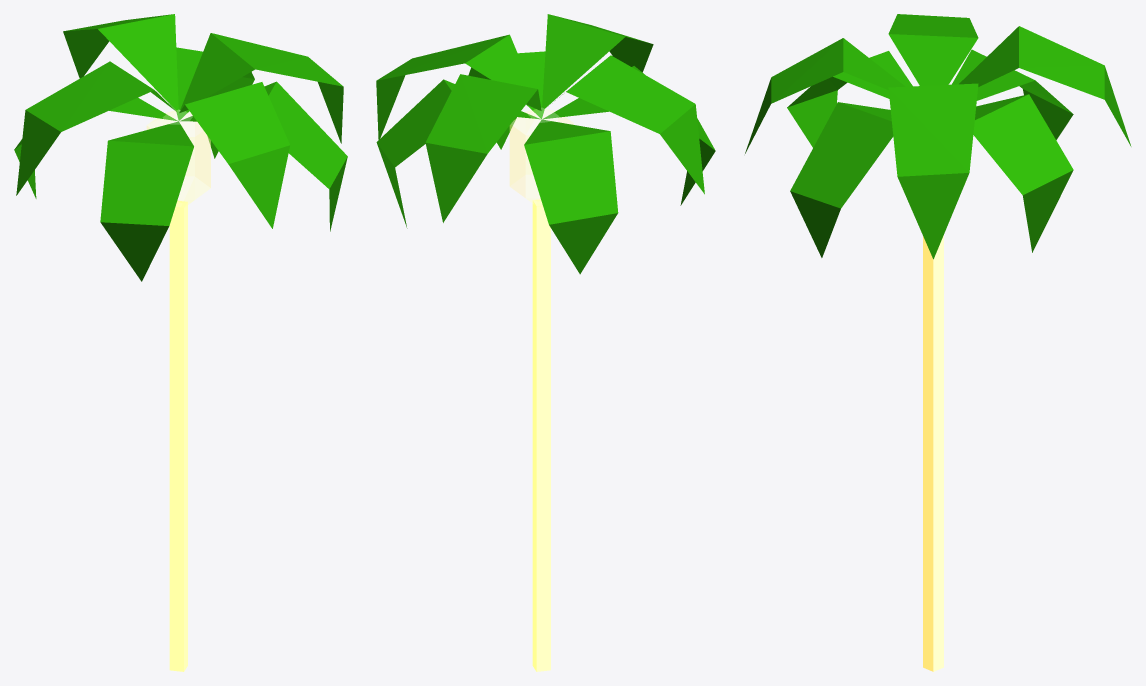
File: palmshiny.glb
3 views of the same model, side by side, from view 1: azimuth 30°, elevation 25°; view 2: azimuth 150°, elevation 25°; view 3: azimuth 270°, elevation 25° (orthographic).
Visible parts, largest first — view 1: n000_object_00CE8790_meshId0_name, n000_object_00CE8790.002_meshId2_name, n000_object_00CE8790.001_meshId1_name; view 2: n000_object_00CE8790_meshId0_name, n000_object_00CE8790.002_meshId2_name, n000_object_00CE8790.001_meshId1_name; view 3: n000_object_00CE8790_meshId0_name, n000_object_00CE8790.002_meshId2_name.
Boxes of the visible parts, x1,y1,x2,y2 form: n000_object_00CE8790_meshId0_name: [14, 14, 347, 281]; n000_object_00CE8790.002_meshId2_name: [169, 200, 187, 671]; n000_object_00CE8790.001_meshId1_name: [147, 110, 210, 208]; n000_object_00CE8790_meshId0_name: [376, 14, 715, 274]; n000_object_00CE8790.002_meshId2_name: [532, 199, 550, 671]; n000_object_00CE8790.001_meshId1_name: [510, 108, 573, 206]; n000_object_00CE8790_meshId0_name: [745, 14, 1131, 259]; n000_object_00CE8790.002_meshId2_name: [923, 235, 943, 671].
Bounding box in the file's own units: 43.26 × 78.5 × 44.29.
3 materials, 1 textured.
